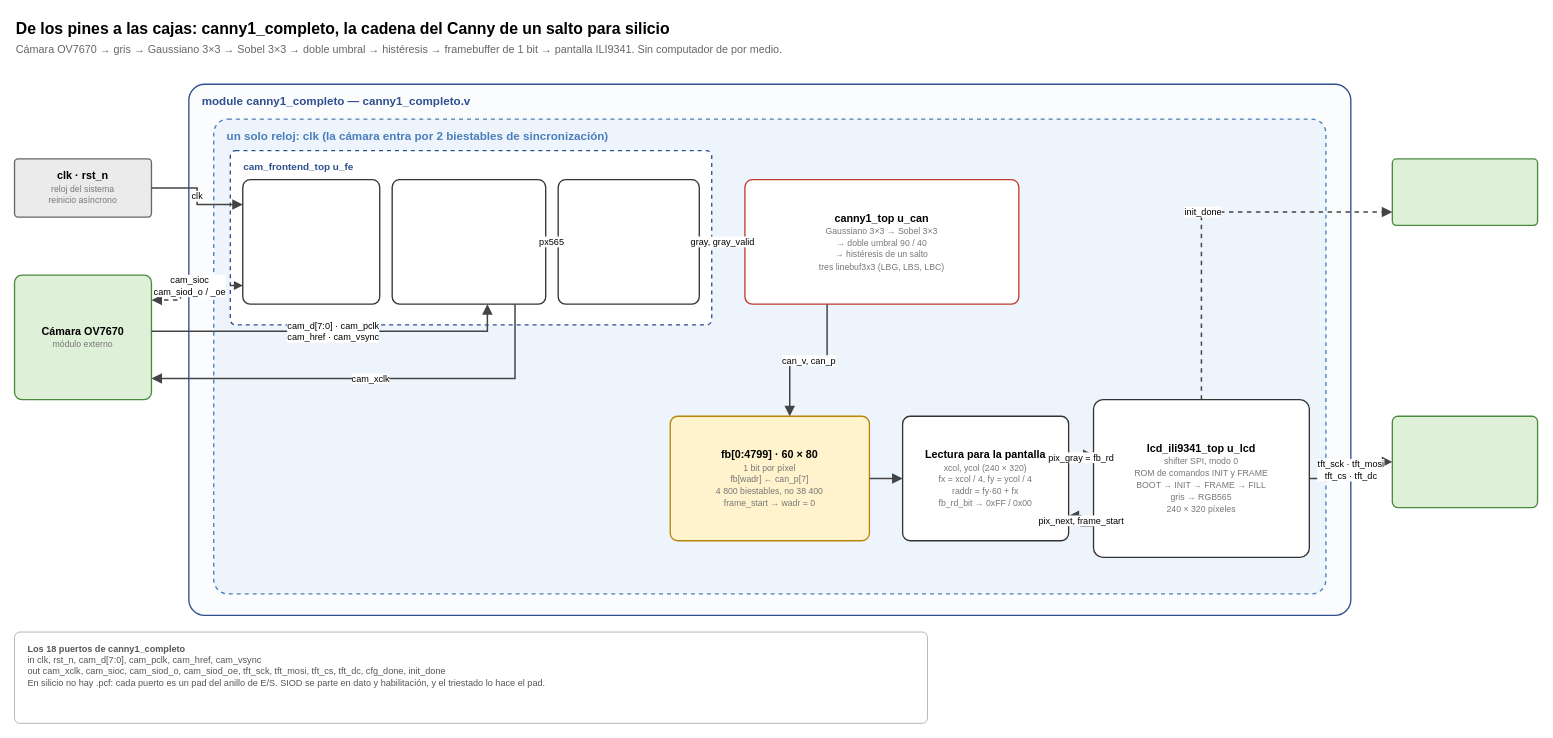
Some shapes in this 1553 by 738 pixel diagram are drawn without their labels. The centre of each missing label's shape, as x and y in pixels:
"Estado cfg_done ← ov7670_sccb init_done ← lcd_ili9341_top" goes at point 1464,192.
"ov7670_capture genera cam_xclk PCLK/HREF/VSYNC → 2-FF 2 bytes → RGB565" goes at point 468,241.
"ov7670_sccb configura la cámara al arrancar SIOD: dato + enable" goes at point 311,241.
"Pantalla TFT ILI9341" goes at point 1464,461.
"rgb565_to_gray Y = (R + 2G + B) >> 2 sin multiplicar gray, gray_valid" goes at point 628,241.
